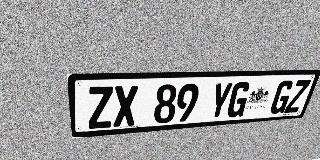8: (153, 84, 179, 124)
9: (174, 83, 200, 122)
G: (225, 82, 252, 118), (268, 80, 296, 114)
X: (113, 85, 138, 127)
Y: (207, 82, 234, 119)
Z: (87, 86, 113, 129), (284, 80, 311, 113)
